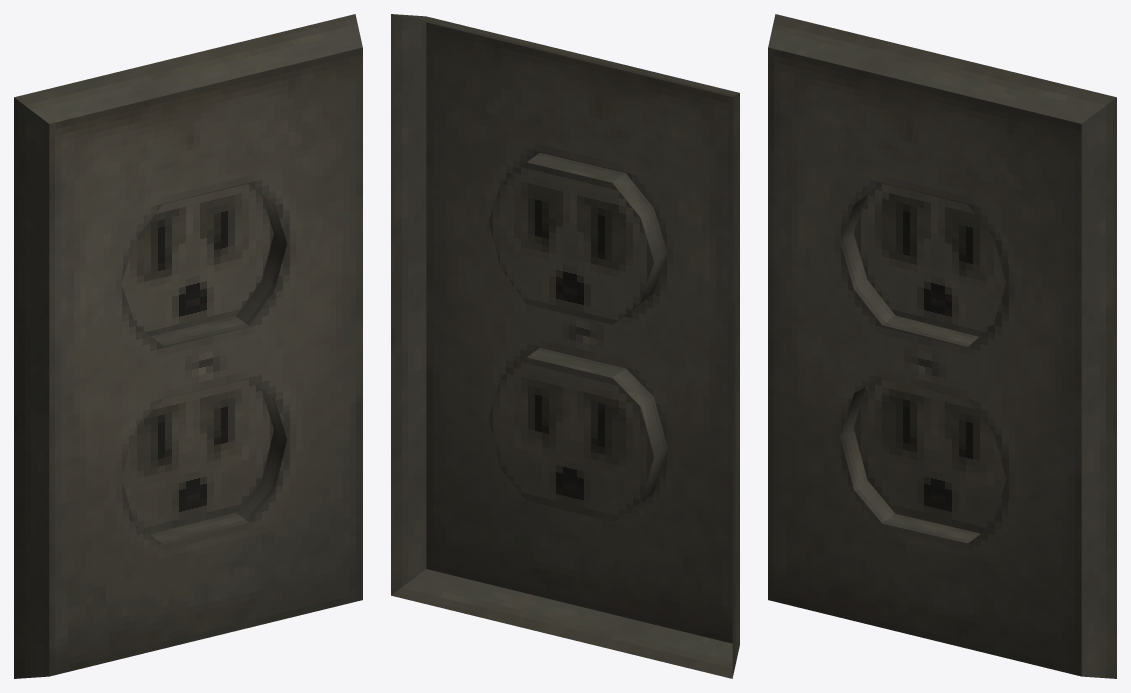
File: electrical_outlet_1.glb
3 views of the same model, side by side, from view 1: azimuth 30°, elevation 25°; view 2: azimuth 150°, elevation 25°; view 3: azimuth 330°, elevation 25° (orthographic).
Parts seen in each view (by area): view 1: electrical_outlet_1; view 2: electrical_outlet_1; view 3: electrical_outlet_1.
Boxes of the visible parts, x1=… form: electrical_outlet_1: x1=14, y1=14, x2=362, y2=678; electrical_outlet_1: x1=391, y1=14, x2=739, y2=678; electrical_outlet_1: x1=768, y1=14, x2=1116, y2=678.
Size of the model in its own units: 0.1113 by 0.1812 by 0.012.
1 material, 1 textured.
